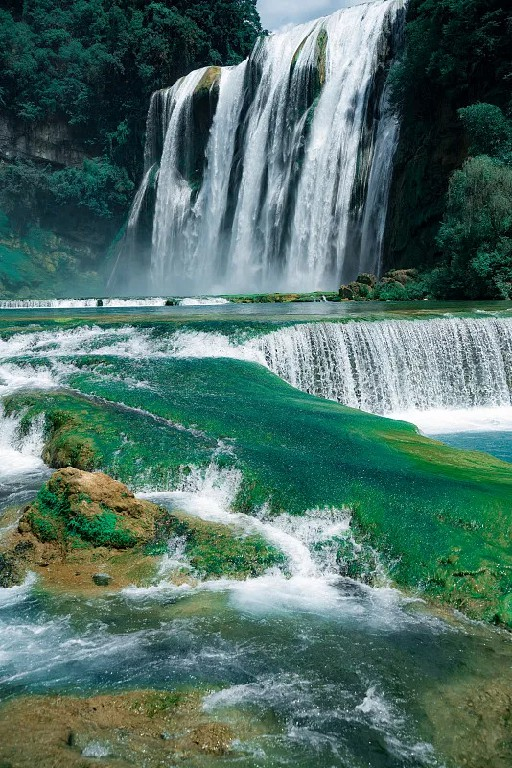Huangguoshu: (136, 6, 405, 288)
